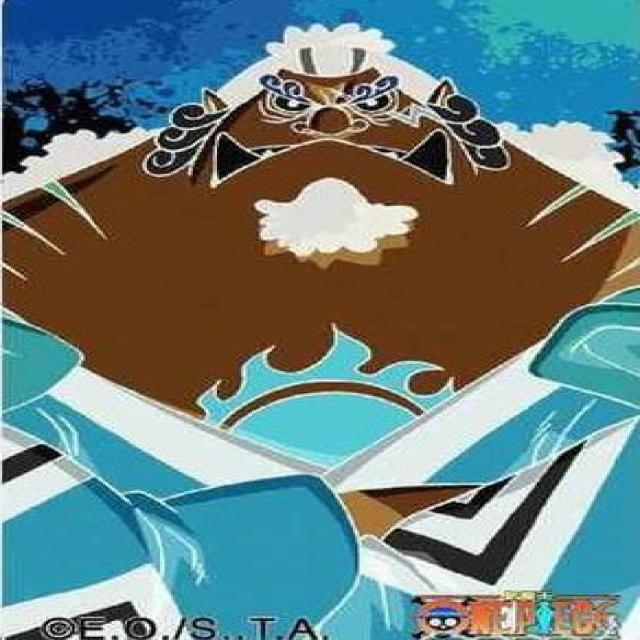Jinbe: (0, 22, 640, 640)
